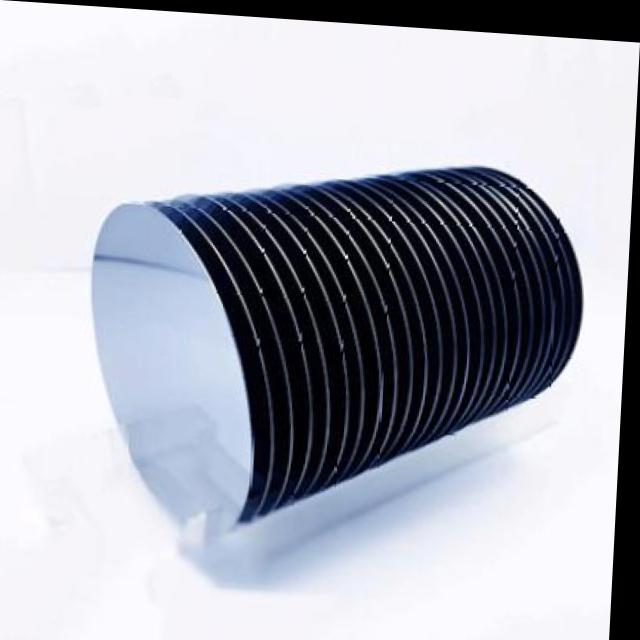Wafer: (95, 158, 588, 531)
